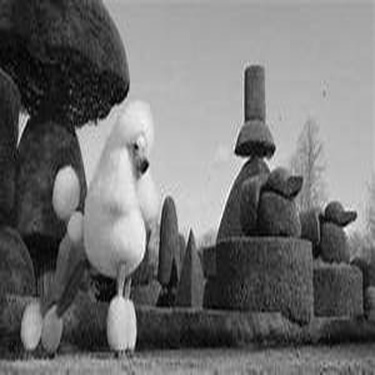dog: (23, 92, 169, 365)
